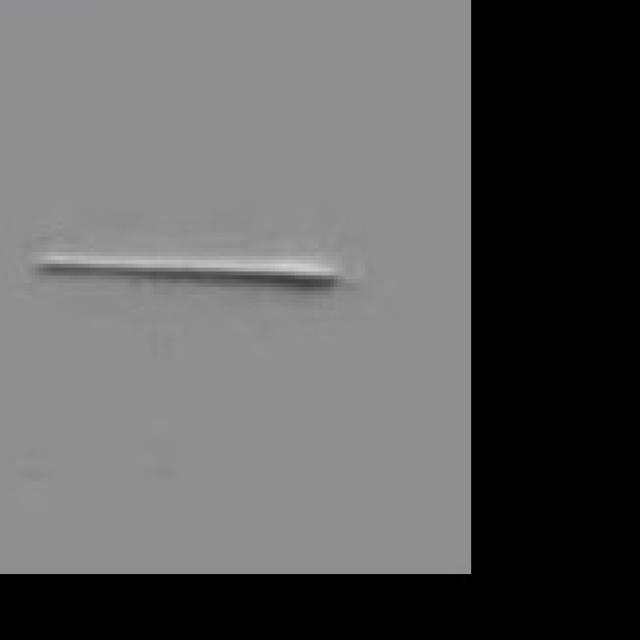Defect4: (12, 216, 364, 310)
